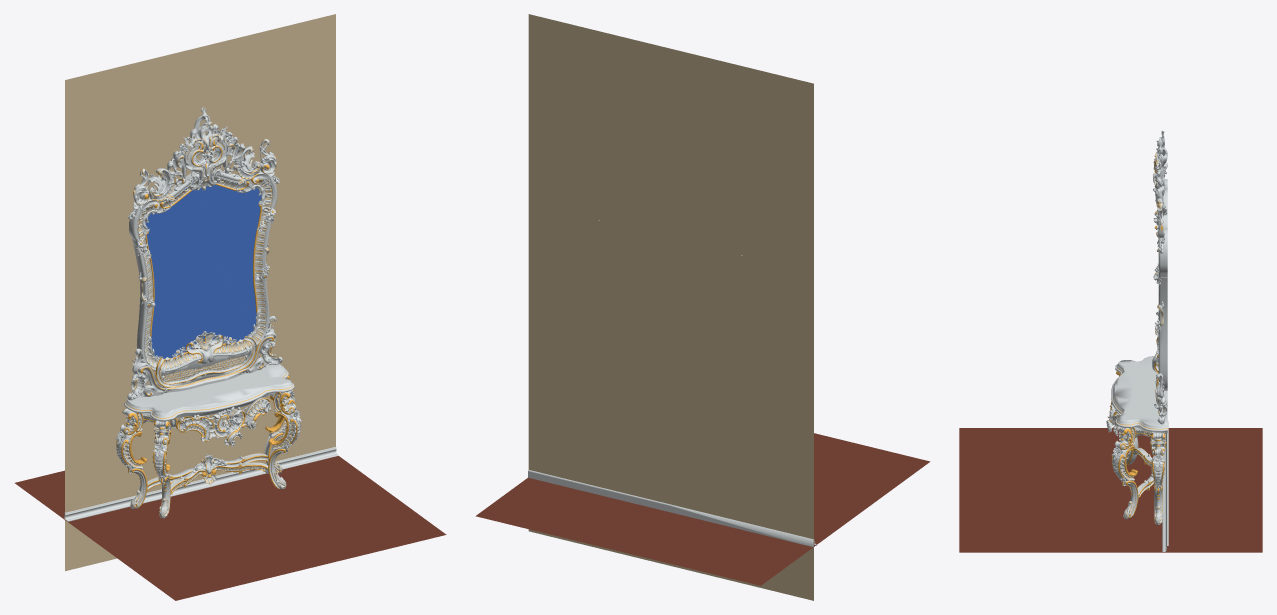
The model's file is dresser_baroque.glb.
3 renders of one model, left to right at view 1: azimuth 30°, elevation 25°; view 2: azimuth 150°, elevation 25°; view 3: azimuth 270°, elevation 25°, orthographic. The views are drawn at different scales.
Visible parts, largest first — view 1: 1DM_K3_0, 1DM_B1_0; view 2: 1DM_K3_0; view 3: 1DM_K3_0, 1DM_B1_0.
Part boxes in pixels (box(x1,y1,x2,y2)): 1DM_K3_0: box(15, 14, 446, 600); 1DM_B1_0: box(127, 107, 279, 371); 1DM_K3_0: box(475, 14, 930, 600); 1DM_K3_0: box(959, 210, 1262, 552); 1DM_B1_0: box(1153, 130, 1167, 390).
Bounding box in the file's own units: 14.96 × 25.89 × 15.41.
Materials: 1 (1 with a texture image).
